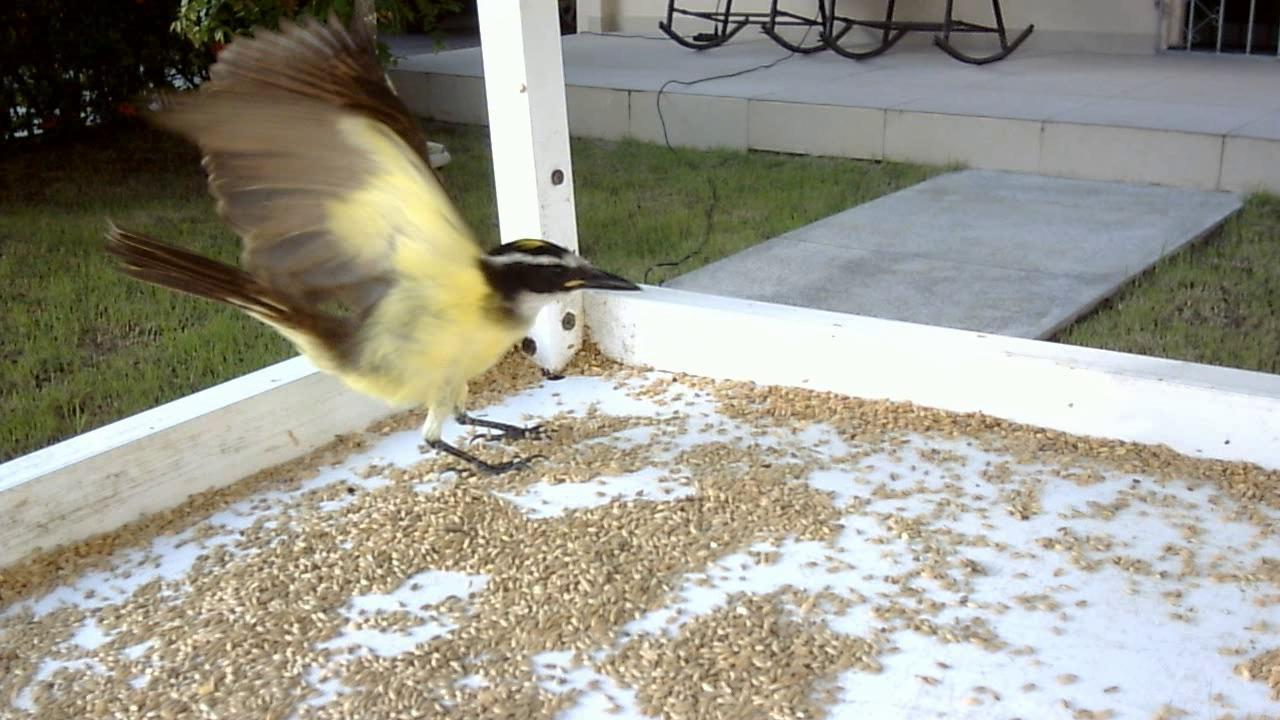bem_te_vi: (80, 12, 652, 504)
